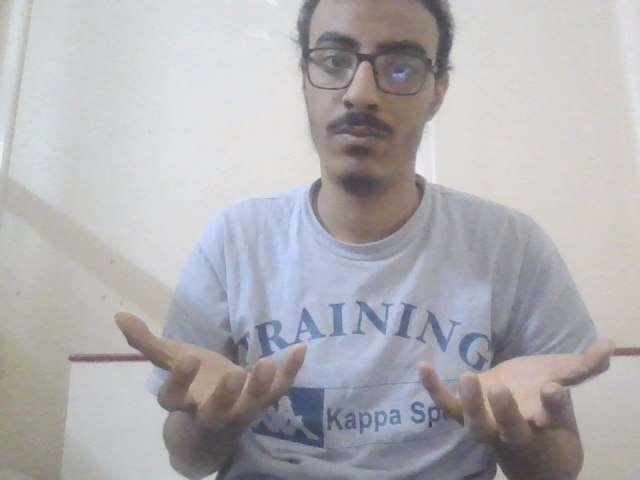What: (108, 303, 621, 452)
